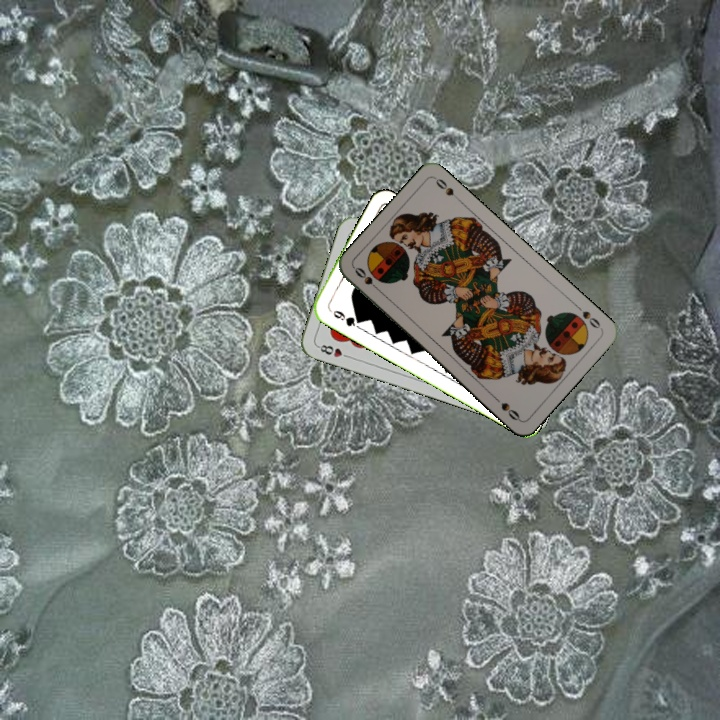G9: (325, 304, 364, 329)
H8: (314, 340, 353, 361)
SO: (350, 263, 384, 295), (571, 301, 604, 332)
